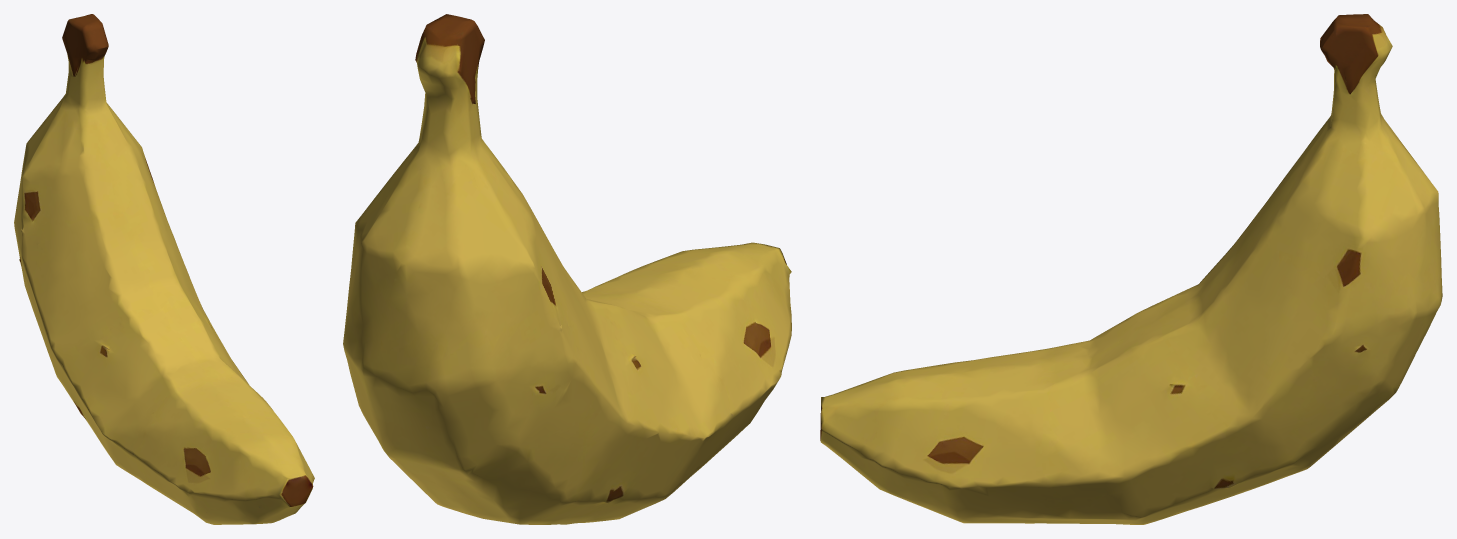
Rendered from Platano modelo 3D.glb.
The picture shows the model from 3 angles, left to right: view 1: azimuth 30°, elevation 25°; view 2: azimuth 150°, elevation 25°; view 3: azimuth 270°, elevation 25°; orthographic projection. The views are drawn at different scales.
Visible parts, largest first — view 1: tripo_node_75629397-637b-44ae-9fe3-0ab7ad803422; view 2: tripo_node_75629397-637b-44ae-9fe3-0ab7ad803422; view 3: tripo_node_75629397-637b-44ae-9fe3-0ab7ad803422.
Part boxes in pixels (bbox=[...]): tripo_node_75629397-637b-44ae-9fe3-0ab7ad803422: bbox=[14, 14, 314, 524]; tripo_node_75629397-637b-44ae-9fe3-0ab7ad803422: bbox=[343, 14, 791, 524]; tripo_node_75629397-637b-44ae-9fe3-0ab7ad803422: bbox=[820, 14, 1442, 524].
Bounding box in the file's own units: 0.3603 × 0.8687 × 0.9984.
Materials: 1 (1 with a texture image).
